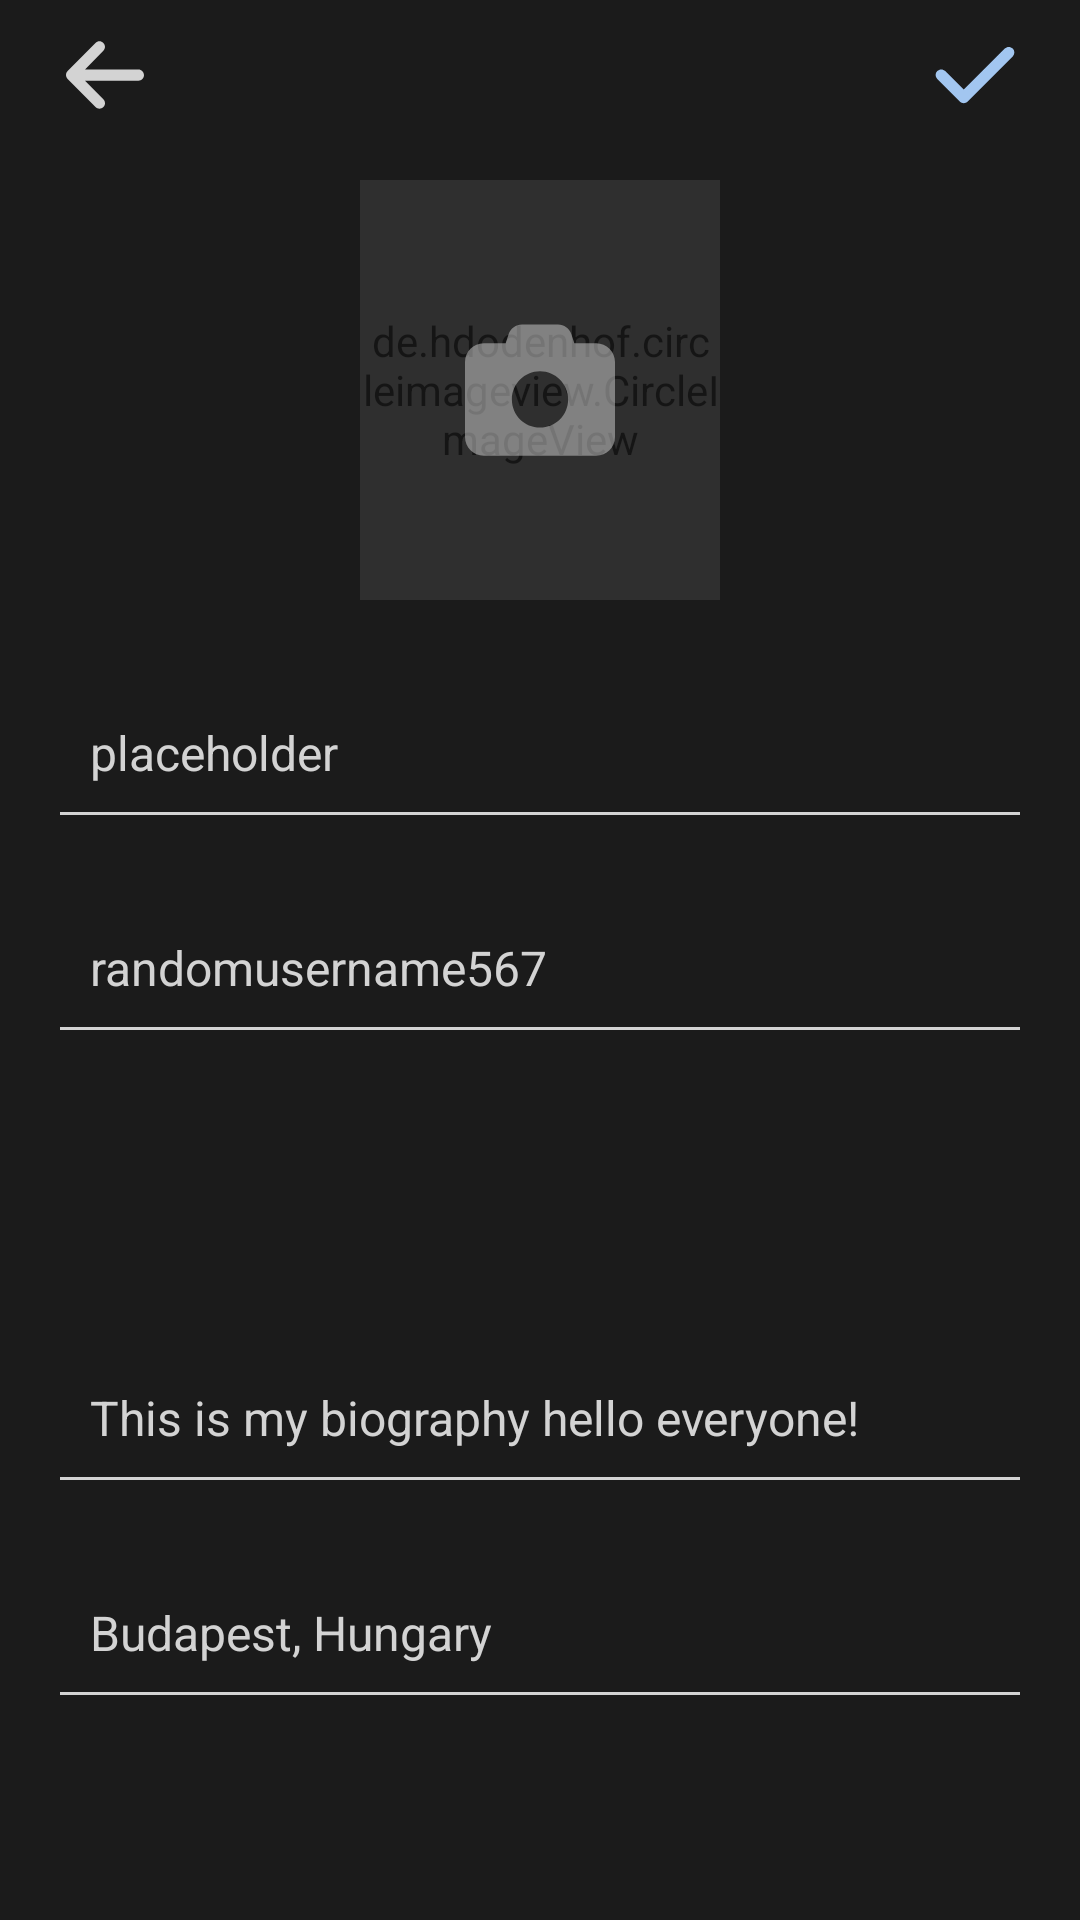

Icon click points for this 1080w x 1920h phone screenshot, format (x=x, y=y):
camera icon: (x=540, y=390)
check button: (x=975, y=75)
left arrow button: (x=105, y=75)
